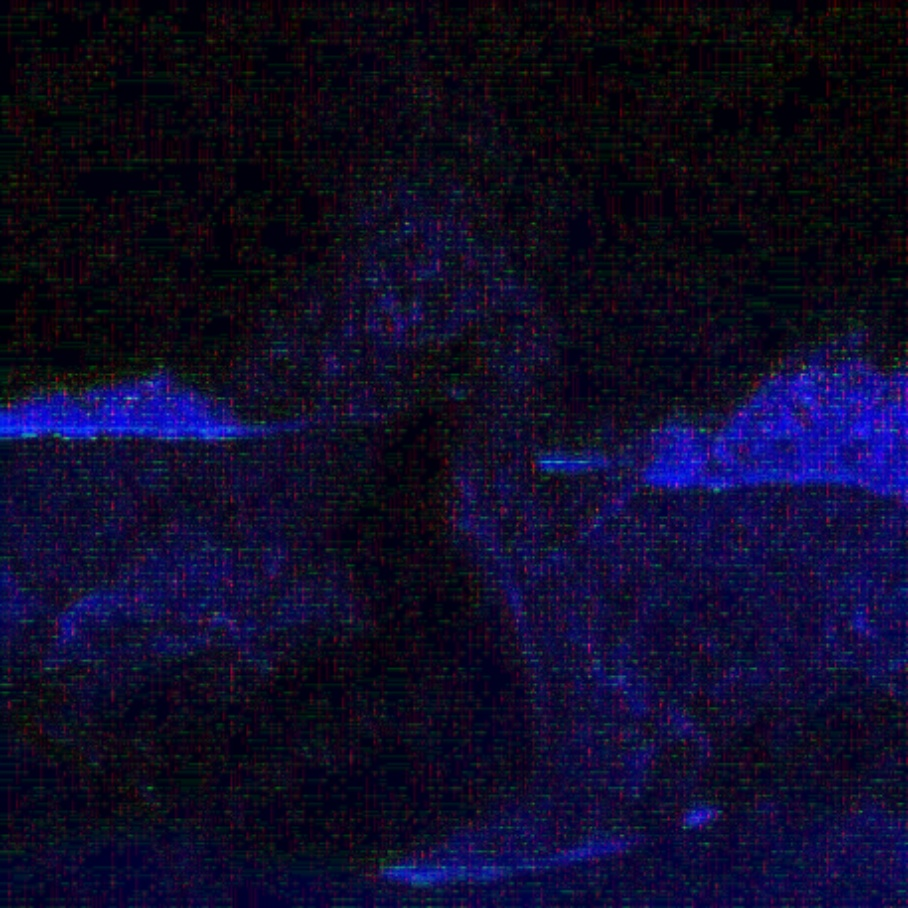rip_current: (203, 194, 598, 833)
